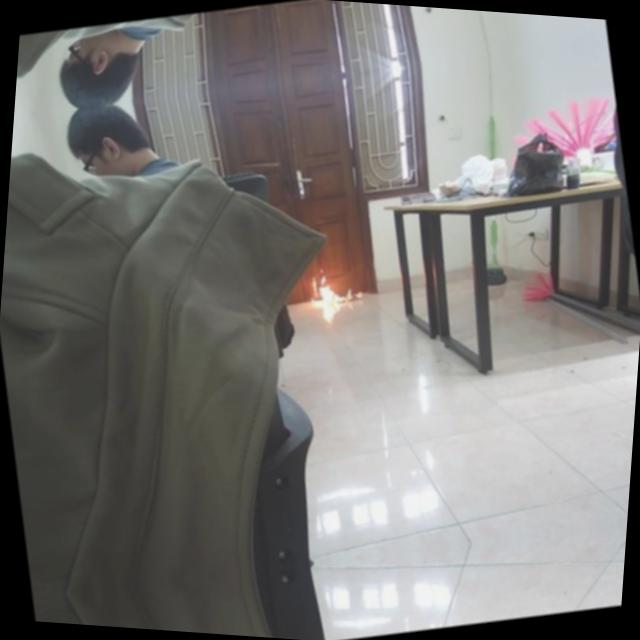fire: (289, 251, 373, 344)
